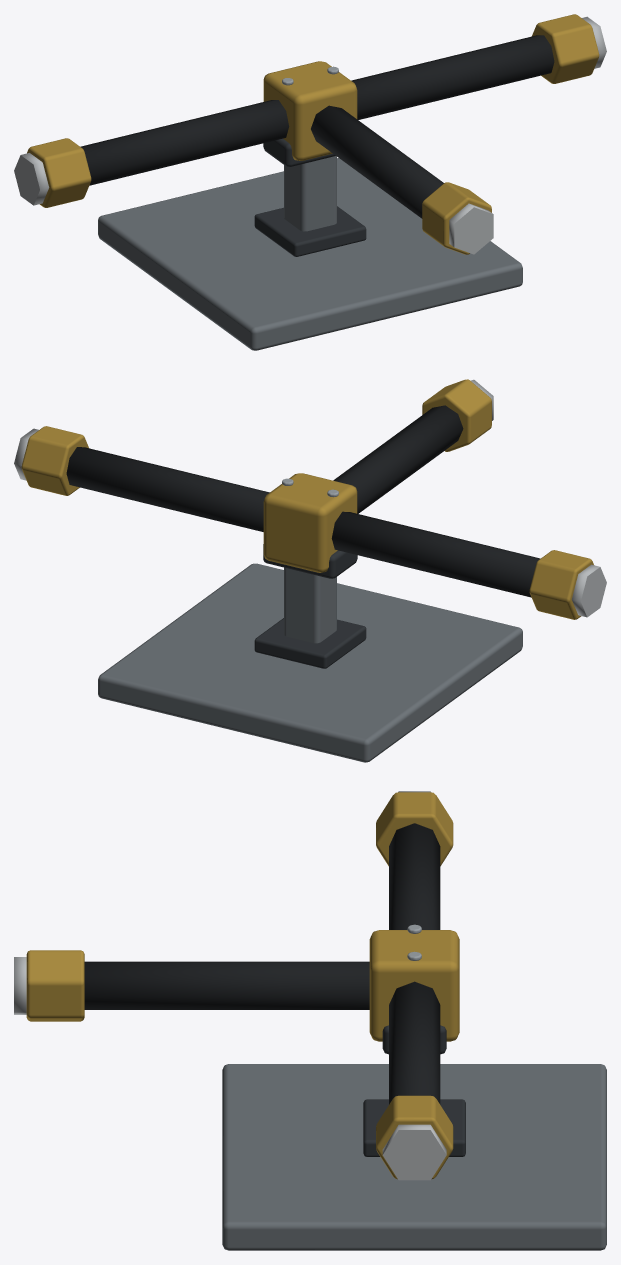
File: pp_tee.glb
The picture shows the model from 3 angles, top to bottom: view 1: azimuth 30°, elevation 25°; view 2: azimuth 150°, elevation 25°; view 3: azimuth 270°, elevation 25°; orthographic projection. The views are drawn at different scales.
Parts seen in each view (by area): view 1: block.001, cyl.001, cyl.004, cyl.007, block, block.002, cyl.005, block.004, cyl.002, cyl.008, cyl, cyl.003 (+1 smaller); view 2: block.001, cyl.001, cyl.004, block, cyl.007, block.002, cyl.005, block.004, cyl.002, cyl.008, cyl.003, block.003; view 3: block.001, cyl.007, block, cyl.004, cyl.001, cyl.008, cyl.002, cyl.006, cyl.005, block.004, cyl.
Part boxes in pixels (left/top/right/bottom): block.001: left=98, top=158, right=522, bottom=350; cyl.001: left=80, top=100, right=289, bottom=185; cyl.004: left=351, top=35, right=554, bottom=119; cyl.007: left=311, top=105, right=443, bottom=218; block: left=263, top=61, right=357, bottom=160; block.002: left=284, top=156, right=336, bottom=231; cyl.005: left=531, top=14, right=599, bottom=83; block.004: left=254, top=206, right=366, bottom=256; cyl.002: left=27, top=138, right=91, bottom=207; cyl.008: left=422, top=182, right=491, bottom=254; cyl: left=449, top=203, right=493, bottom=254; cyl.003: left=14, top=153, right=49, bottom=205; block.001: left=98, top=563, right=522, bottom=762; cyl.001: left=331, top=511, right=540, bottom=597; cyl.004: left=66, top=447, right=269, bottom=531; block: left=263, top=473, right=357, bottom=572; cyl.007: left=333, top=405, right=463, bottom=513; block.002: left=284, top=567, right=336, bottom=643; cyl.005: left=21, top=426, right=88, bottom=495; block.004: left=254, top=618, right=366, bottom=668; cyl.002: left=529, top=550, right=593, bottom=619; cyl.008: left=422, top=379, right=491, bottom=451; cyl.003: left=572, top=564, right=606, bottom=617; block.003: left=263, top=544, right=357, bottom=578; block.001: left=222, top=1064, right=606, bottom=1250; cyl.007: left=84, top=961, right=369, bottom=1009; block: left=369, top=930, right=459, bottom=1041; cyl.004: left=389, top=981, right=440, bottom=1104; cyl.001: left=389, top=823, right=440, bottom=929; cyl.008: left=26, top=950, right=84, bottom=1021; cyl.002: left=376, top=792, right=453, bottom=866; cyl.006: left=382, top=1124, right=446, bottom=1180; cyl.005: left=376, top=1095, right=453, bottom=1179; block.004: left=363, top=1099, right=465, bottom=1156; cyl: left=14, top=957, right=26, bottom=1014.
Bounding box in the file's own units: 1.25 × 0.398 × 0.925.
